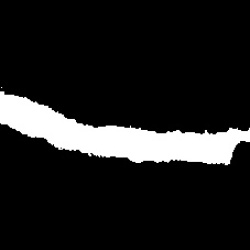crack: (3, 92, 245, 167)
